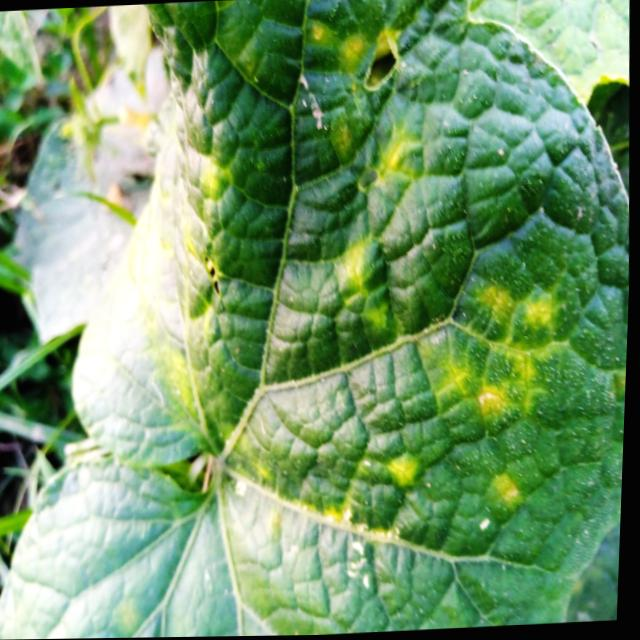Downy-Mildew: (0, 0, 631, 640)
